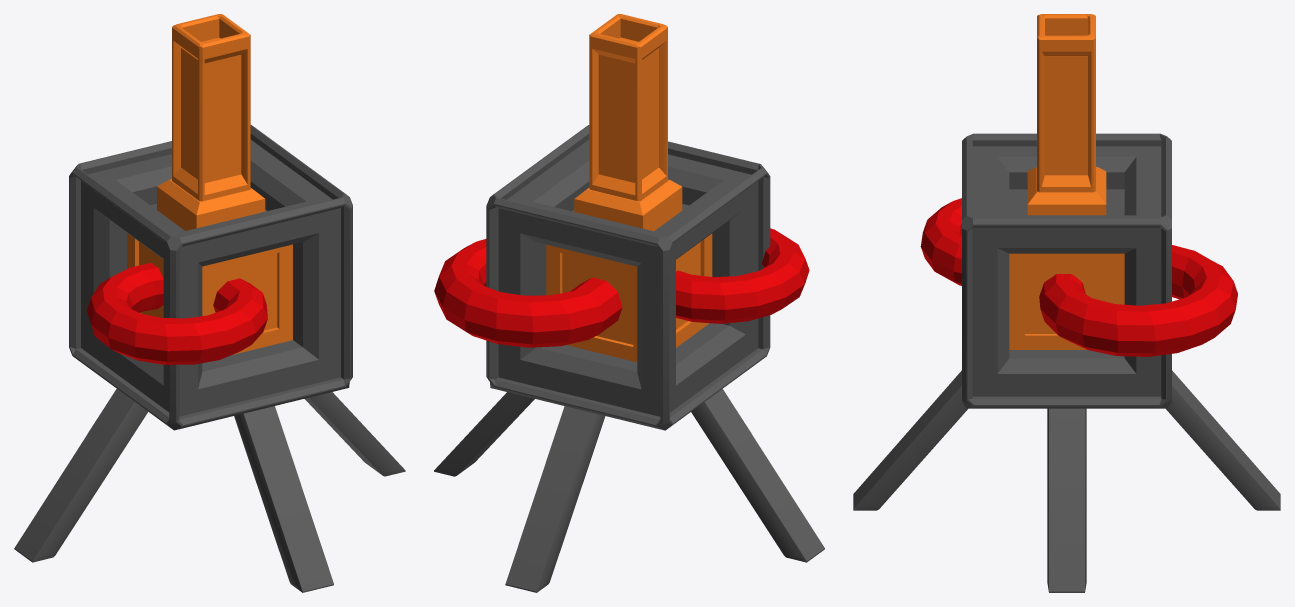
Rendered from ExtraTurret.fbx.
3 views of the same model, side by side, from view 1: azimuth 30°, elevation 25°; view 2: azimuth 150°, elevation 25°; view 3: azimuth 270°, elevation 25° (orthographic).
Parts seen in each view (by area): view 1: Turret, Cylinder.001; view 2: Turret, Cylinder, Cylinder.001; view 3: Turret, Cylinder, Cylinder.001.
Boxes of the visible parts, x1=… form: Turret: x1=14, y1=14, x2=405, y2=592; Cylinder.001: x1=87, y1=262, x2=267, y2=364; Turret: x1=434, y1=14, x2=824, y2=592; Cylinder: x1=434, y1=239, x2=622, y2=347; Cylinder.001: x1=676, y1=228, x2=809, y2=323; Turret: x1=853, y1=14, x2=1280, y2=592; Cylinder: x1=1039, y1=245, x2=1237, y2=356; Cylinder.001: x1=920, y1=198, x2=961, y2=285.
Size of the model in its own units: 245 by 302 by 245.
